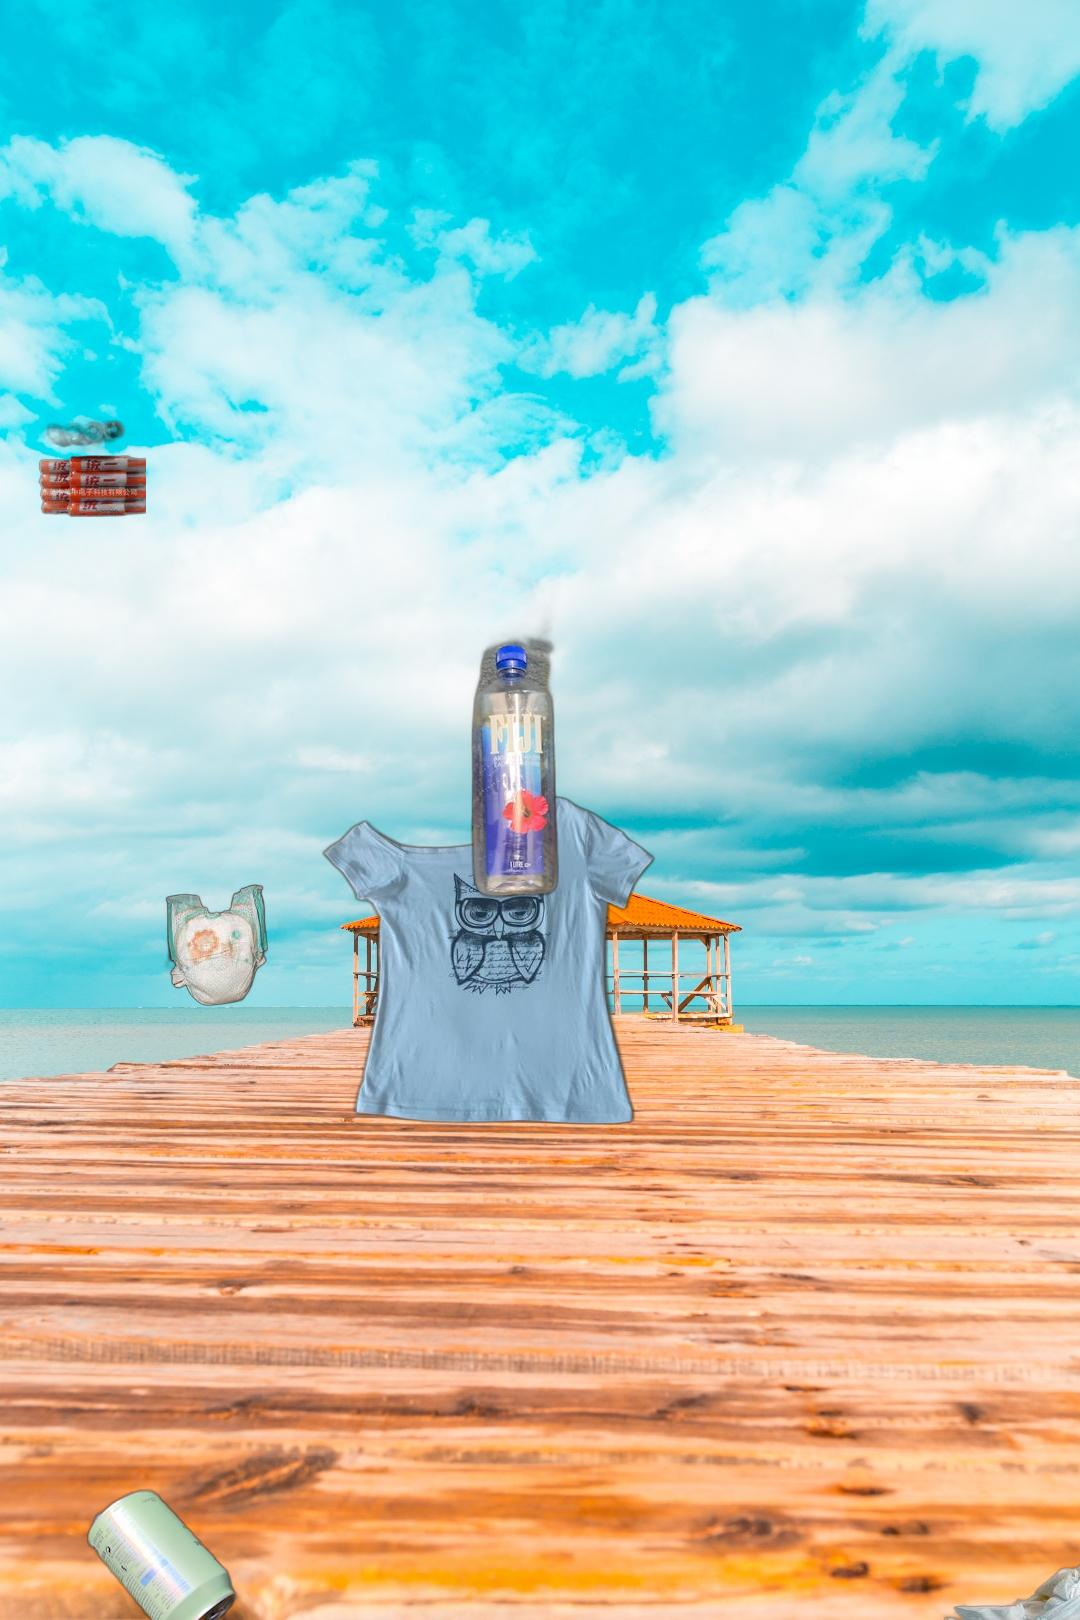battery: (36, 416, 146, 520)
clothes: (318, 793, 661, 1127)
metal-cans: (84, 1471, 550, 1620)
plastic-bottles: (466, 568, 563, 903)
trash: (163, 861, 270, 1008), (941, 1557, 1080, 1620)
